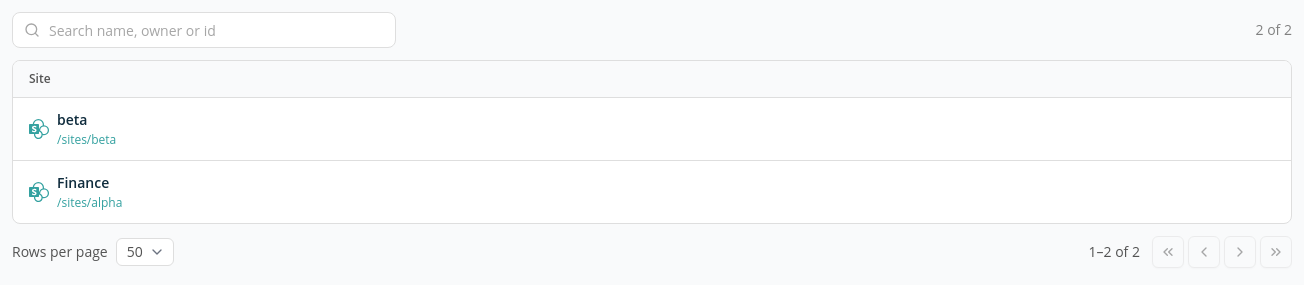
Test: SiteTable › finds a site by its resolved display name
The width and height of the screenshot is (1304, 285).
Type "finan" into the search field.
click(204, 30); type("finan")  # box [12,12,396,48]
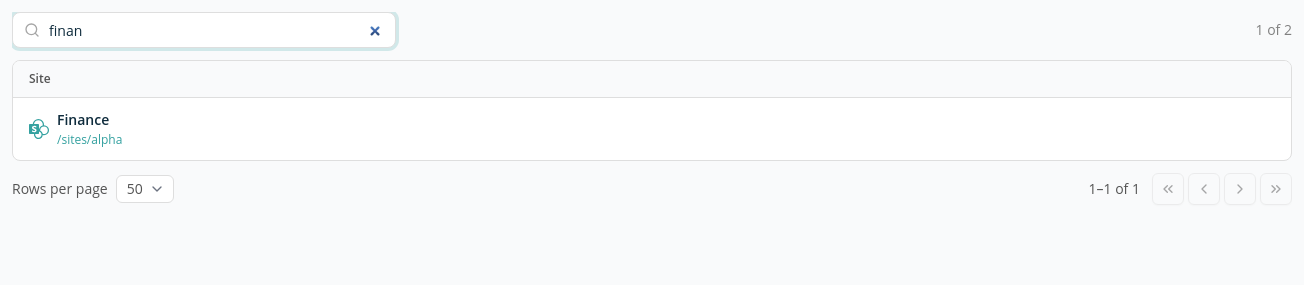
expect the text titled "Finance" is shown: met, box [57,110,109,129]
expect the text "1 of 2" is shown: met, box [1256,20,1292,40]
